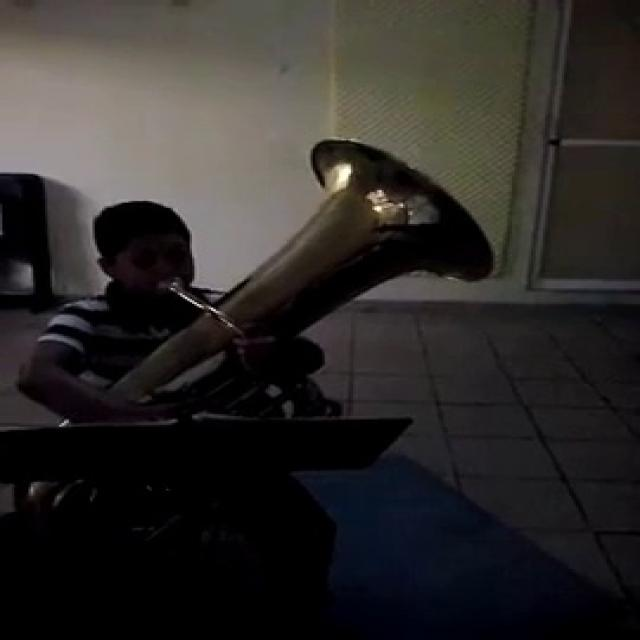Tuba: (39, 127, 511, 438)
